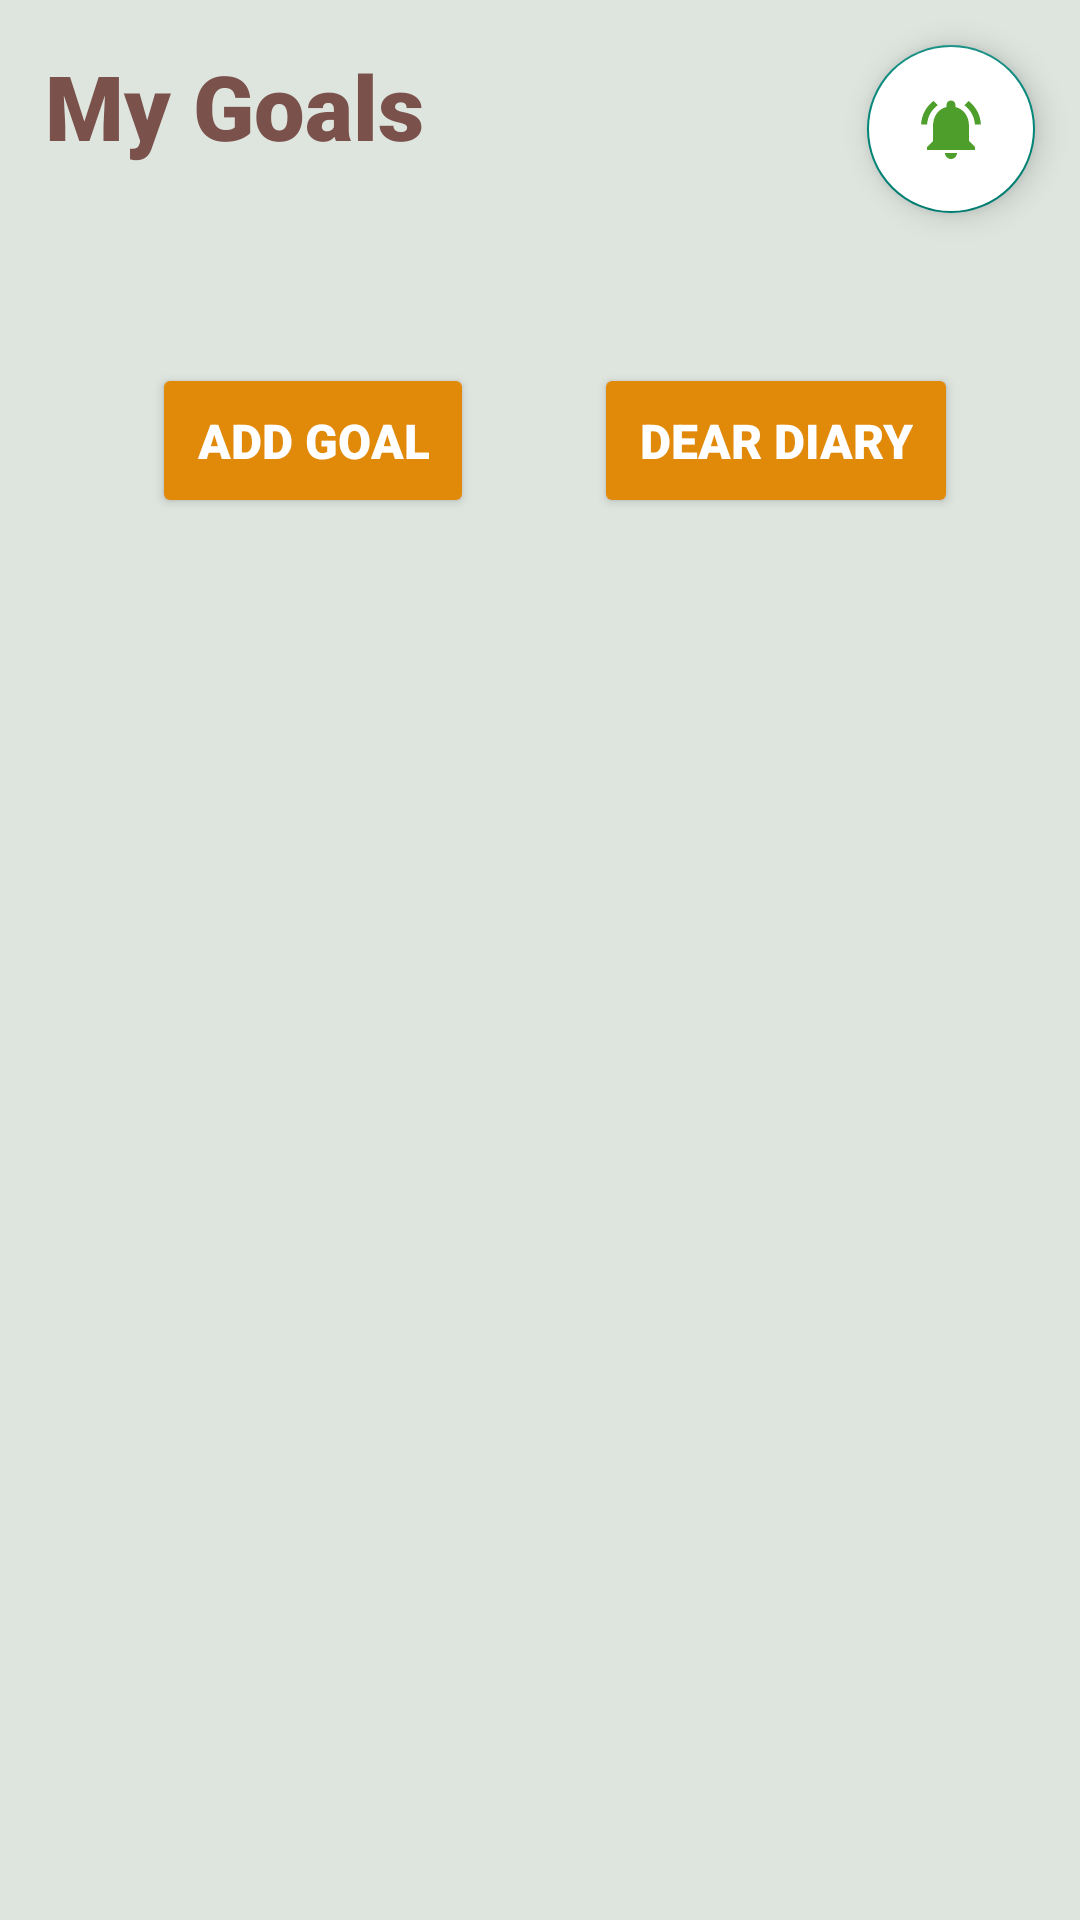

Screen size 1080px x 1920px. Icon name, then its center in pixels as (x=x, y=y):
notifications: (x=951, y=129)
